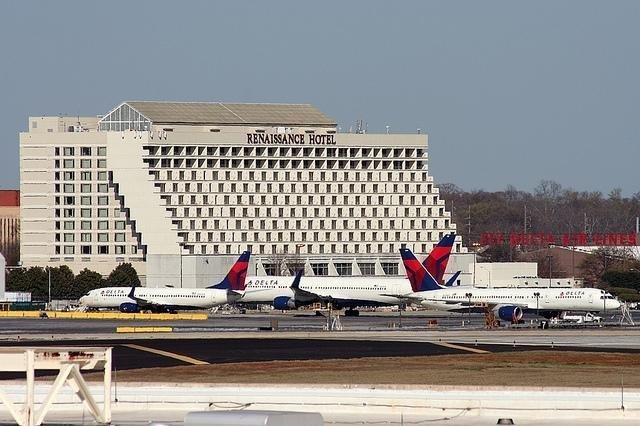truck: (560, 310, 594, 324)
